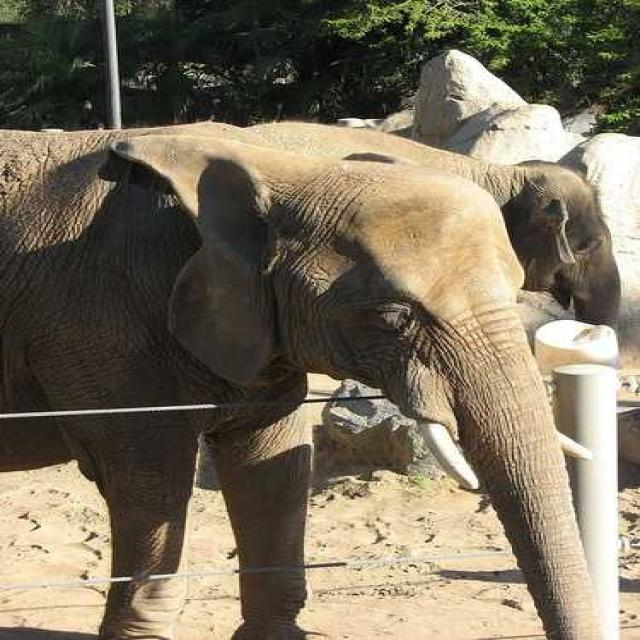Elephant: (0, 124, 608, 639)
